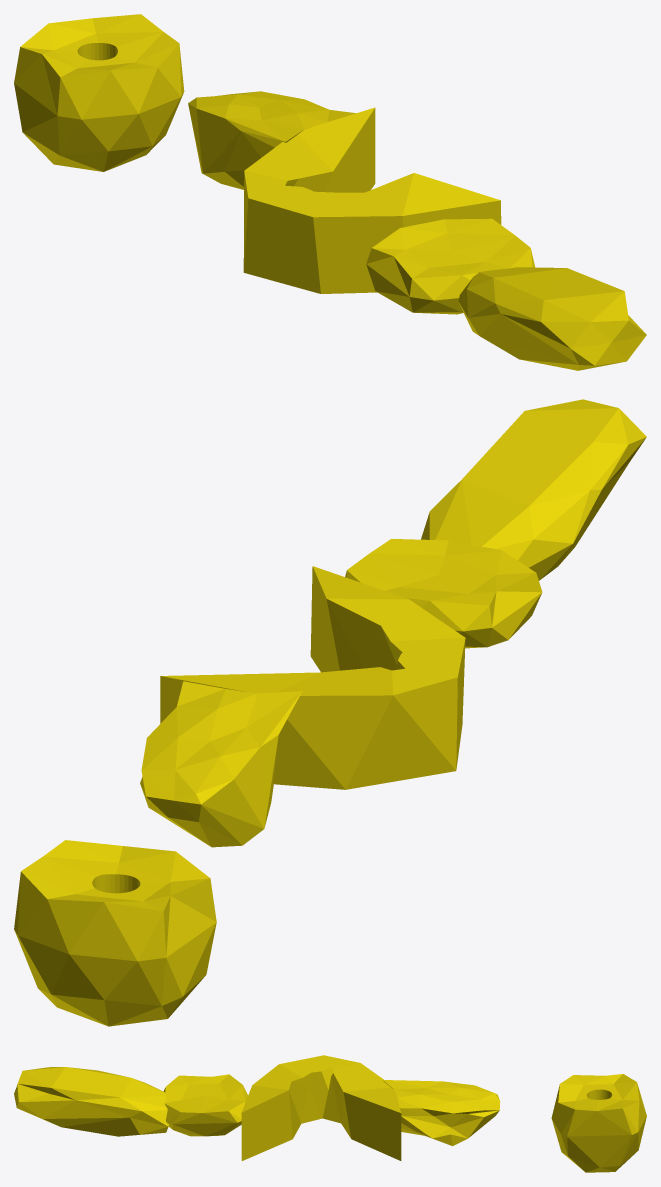
The model's file is lvl1rocks.fbx.
The picture shows the model from 3 angles, top to bottom: view 1: azimuth 30°, elevation 25°; view 2: azimuth 150°, elevation 25°; view 3: azimuth 270°, elevation 25°; orthographic projection. The views are drawn at different scales.
Parts seen in each view (by area): view 1: Circle, Icosphere.004, Icosphere.001, Icosphere.002, Icosphere.003; view 2: Circle, Icosphere.004, Icosphere.001, Icosphere.003, Icosphere.002; view 3: Circle, Icosphere.001, Icosphere.004, Icosphere.003, Icosphere.002.
Part boxes in pixels (box(x1,y1,x2,y2)): Circle: box(243, 107, 501, 293); Icosphere.004: box(14, 14, 184, 171); Icosphere.001: box(458, 267, 646, 370); Icosphere.002: box(366, 218, 535, 314); Icosphere.003: box(188, 91, 355, 189); Circle: box(160, 566, 465, 789); Icosphere.004: box(14, 840, 216, 1026); Icosphere.001: box(421, 399, 646, 580); Icosphere.003: box(140, 681, 302, 847); Icosphere.002: box(345, 539, 542, 648); Circle: box(241, 1055, 401, 1160); Icosphere.001: box(14, 1067, 168, 1136); Icosphere.004: box(551, 1074, 646, 1172); Icosphere.003: box(383, 1080, 500, 1146); Icosphere.002: box(163, 1074, 247, 1136).
Size of the model in its own units: 1914 by 1654 by 8747.
